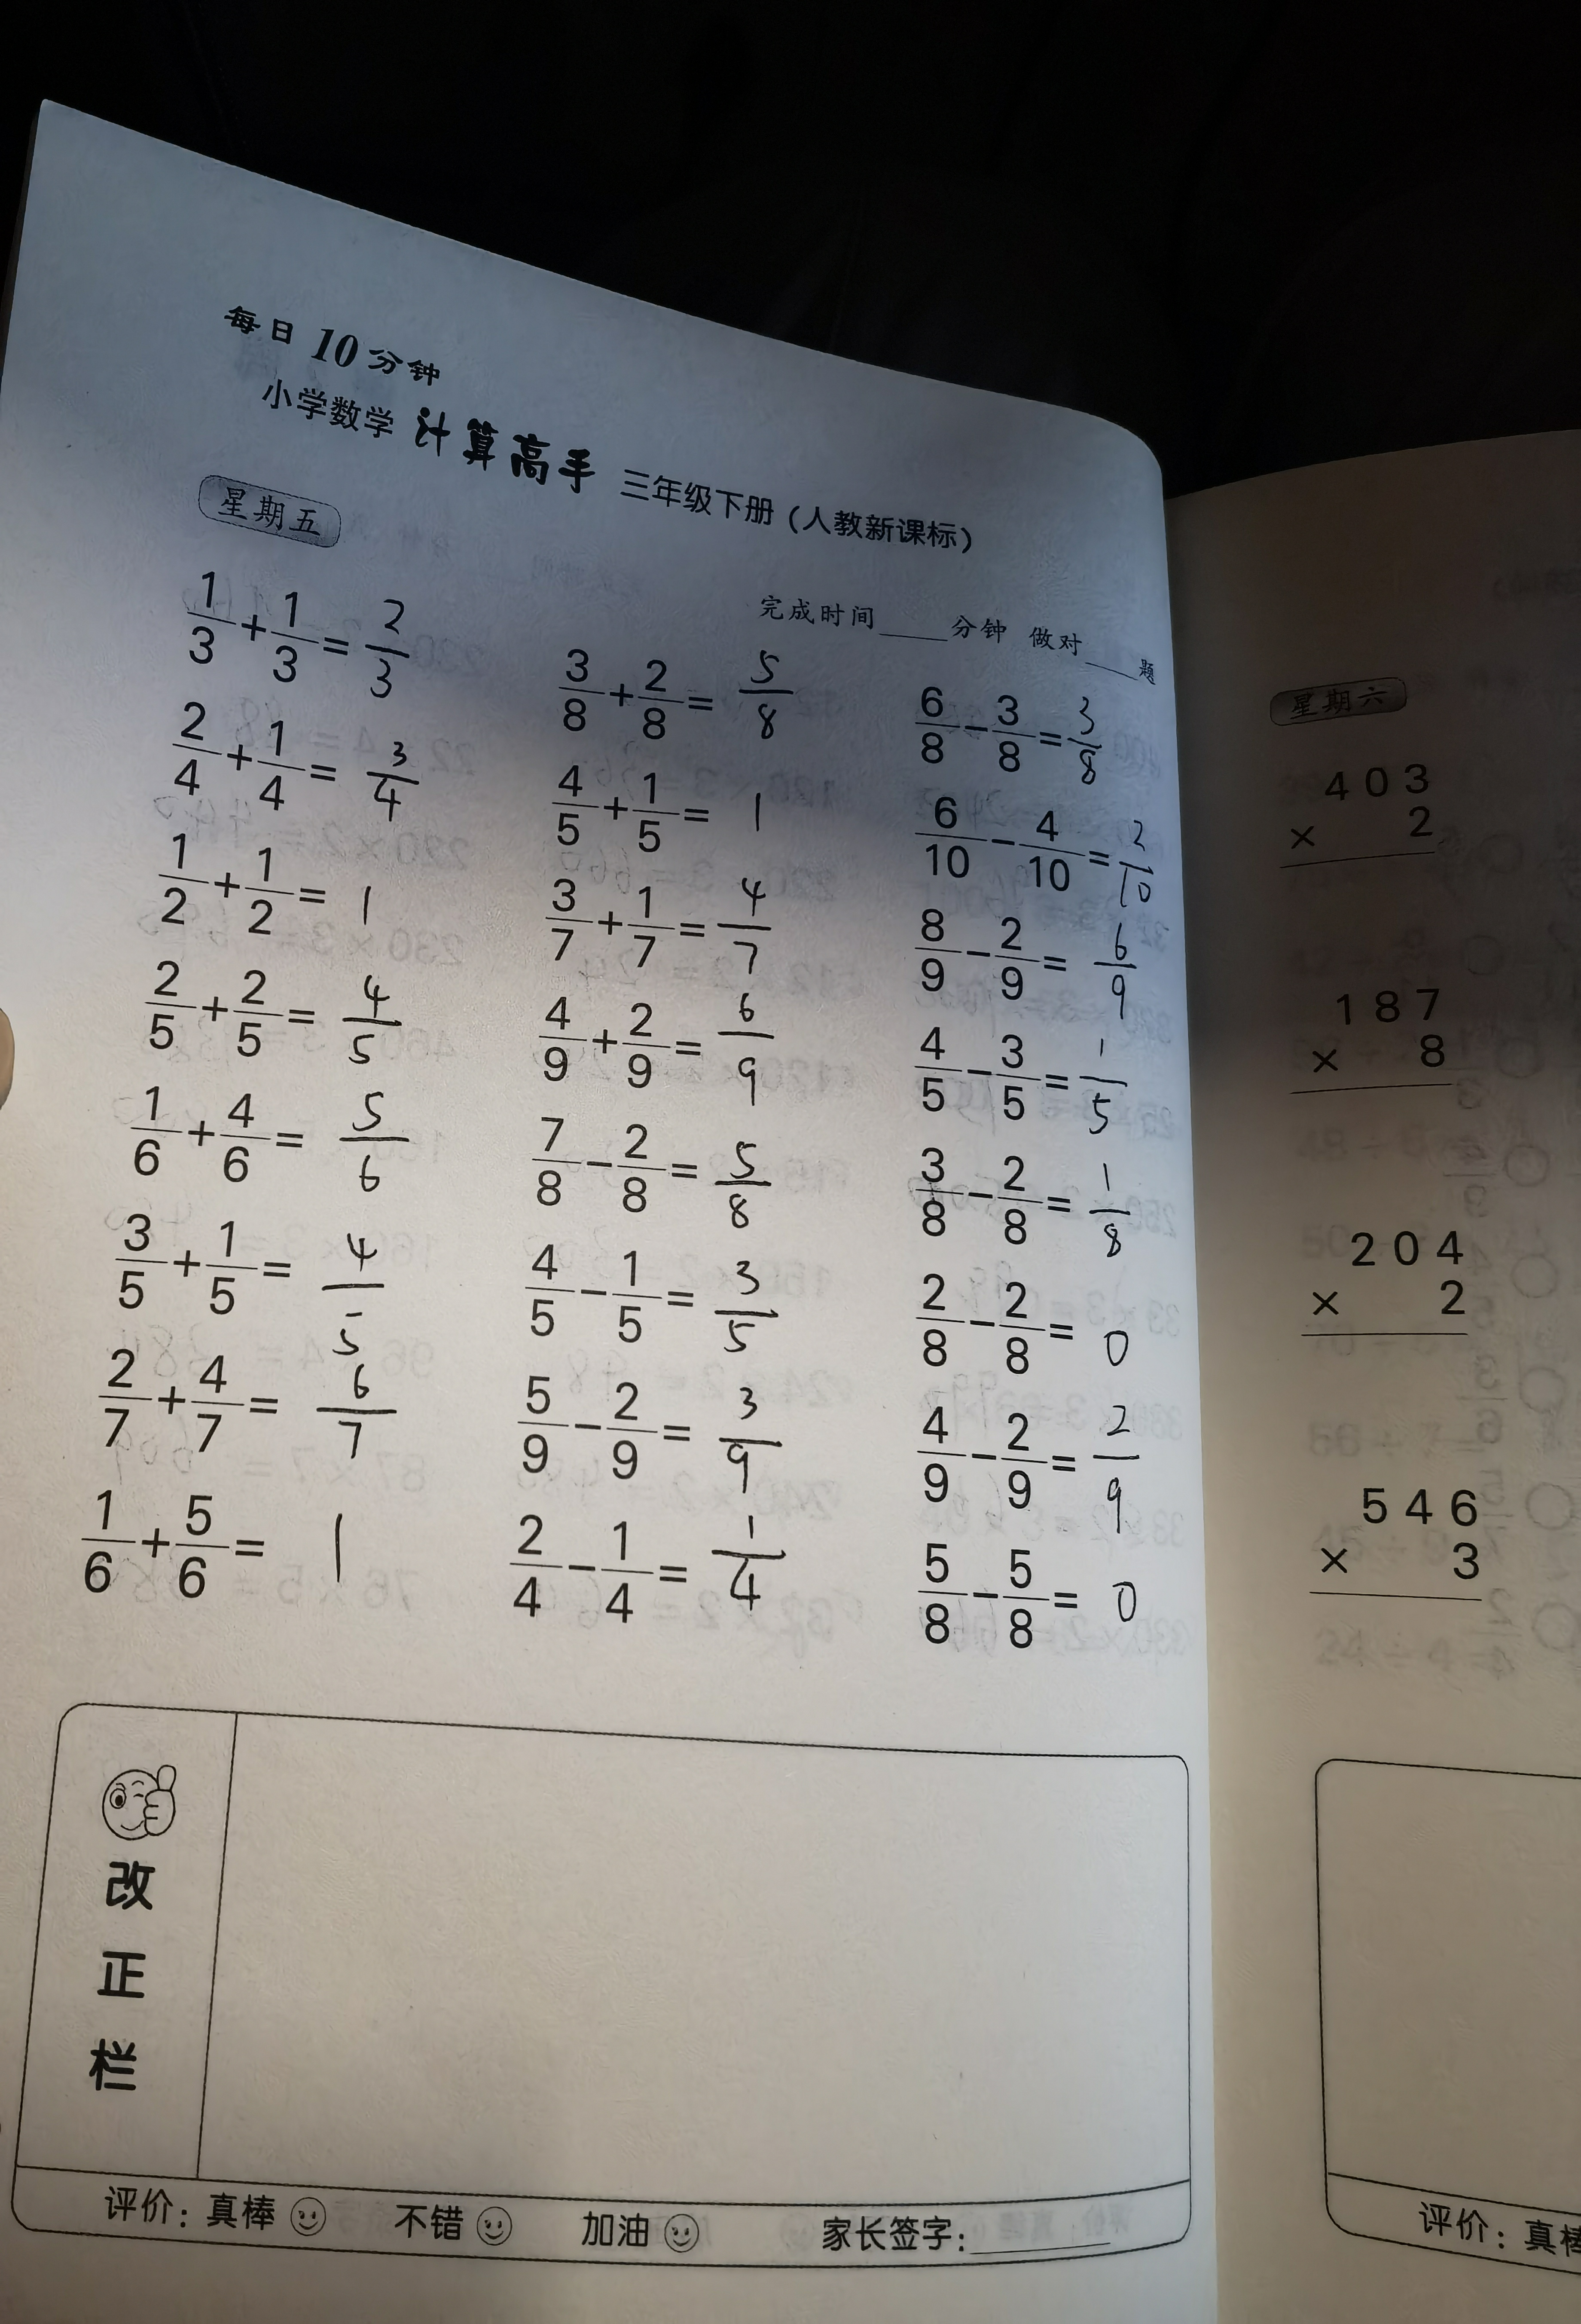equation: (92, 1203, 426, 1359), (152, 509, 434, 693), (477, 1362, 798, 1504), (480, 1516, 811, 1645), (95, 1349, 403, 1486), (160, 693, 439, 843), (76, 1484, 393, 1617), (125, 962, 459, 1086), (117, 1088, 462, 1203), (509, 1235, 796, 1369), (140, 828, 418, 960), (874, 1532, 1165, 1654), (890, 1398, 1146, 1537), (543, 992, 826, 1117), (543, 630, 814, 746), (543, 871, 829, 980), (910, 800, 1178, 916), (900, 914, 1175, 1023), (528, 1107, 776, 1226), (908, 666, 1138, 793), (902, 1030, 1151, 1137), (897, 1154, 1141, 1260), (894, 1274, 1143, 1375), (548, 760, 809, 856)
